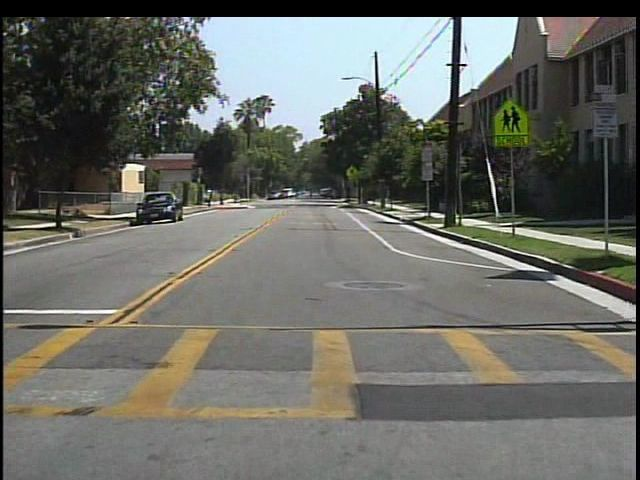person: (304, 186, 319, 203)
